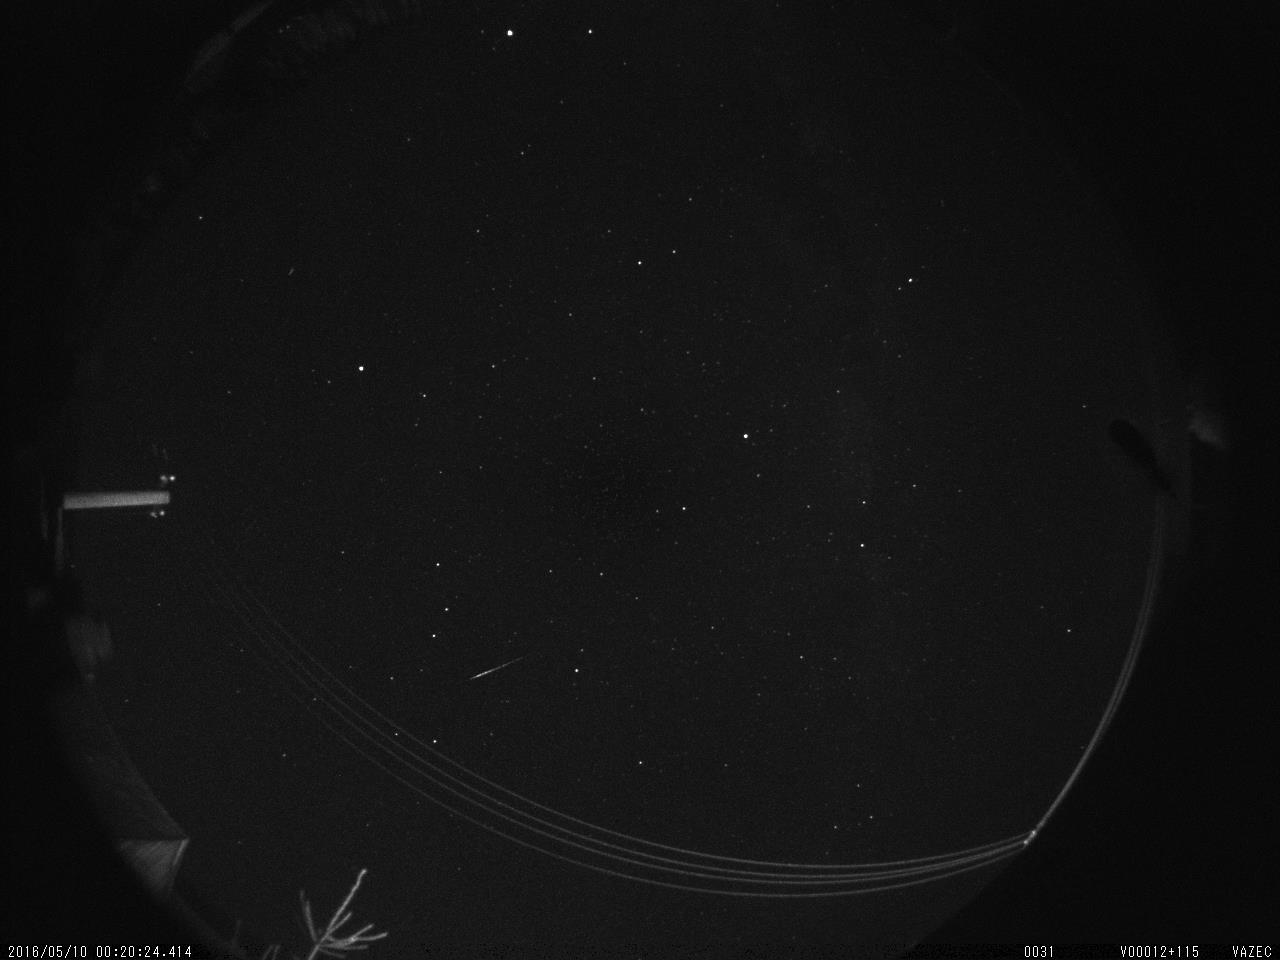meteor: (455, 646, 555, 697)
